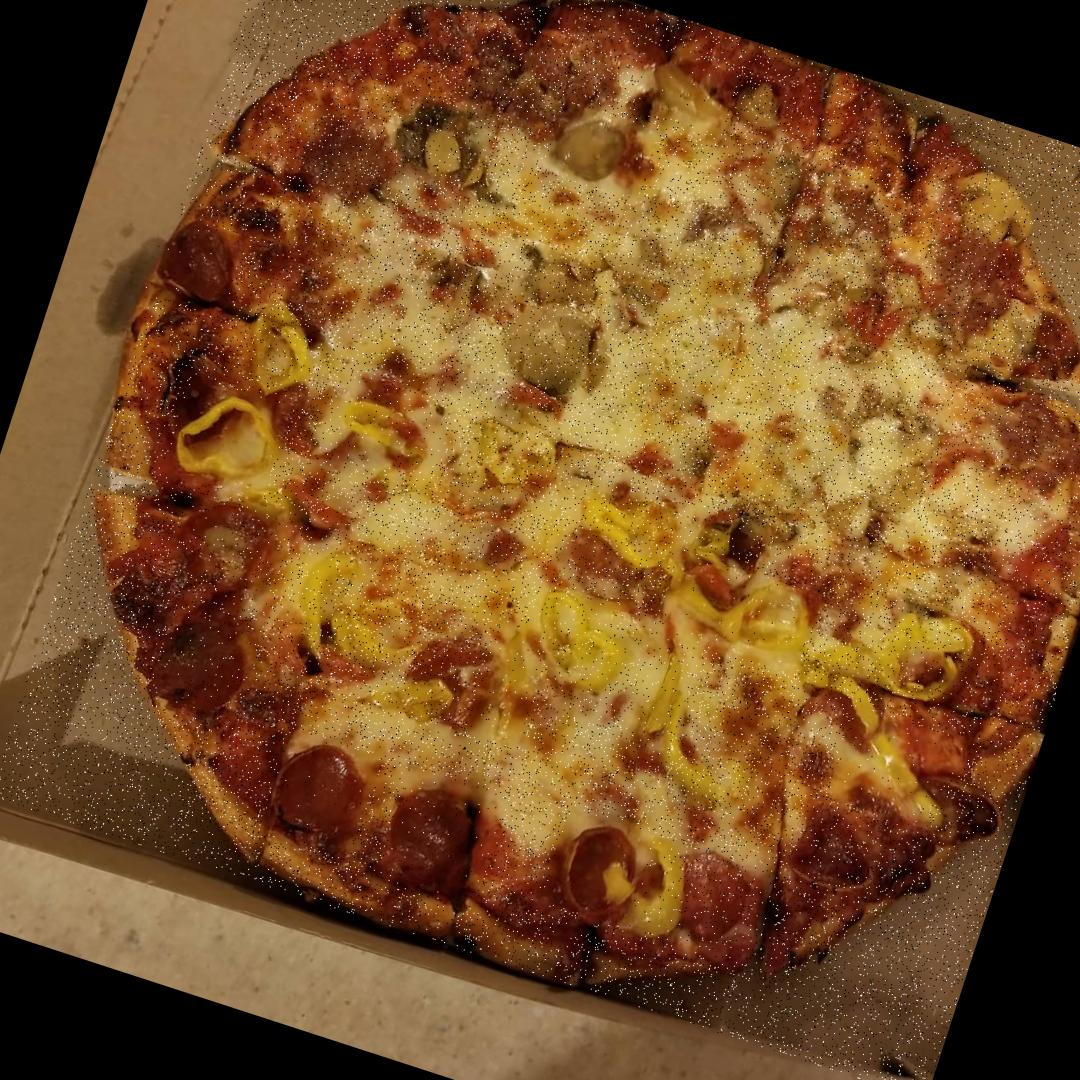Mushroom: (930, 148, 1056, 270), (484, 287, 603, 406), (378, 93, 494, 198), (545, 102, 660, 200), (634, 47, 740, 134), (921, 768, 1013, 858), (519, 242, 615, 321), (742, 146, 820, 220), (723, 76, 791, 146)
Pepperoni: (376, 768, 509, 908), (166, 480, 298, 601), (260, 729, 380, 860), (662, 842, 777, 972), (542, 808, 654, 929), (148, 612, 260, 730), (139, 211, 246, 317), (783, 798, 887, 902)
Peppers: (654, 551, 822, 677), (512, 580, 654, 714), (828, 707, 972, 835), (162, 377, 292, 507), (868, 596, 988, 724), (644, 678, 758, 811), (314, 574, 442, 686), (590, 824, 708, 944), (321, 376, 450, 485), (564, 474, 694, 580), (275, 532, 369, 674), (466, 617, 554, 750), (621, 617, 707, 752), (461, 402, 571, 502), (788, 630, 902, 724), (230, 307, 329, 413), (364, 661, 465, 742), (680, 509, 752, 587)
Pizza: (0, 0, 1080, 1080)
